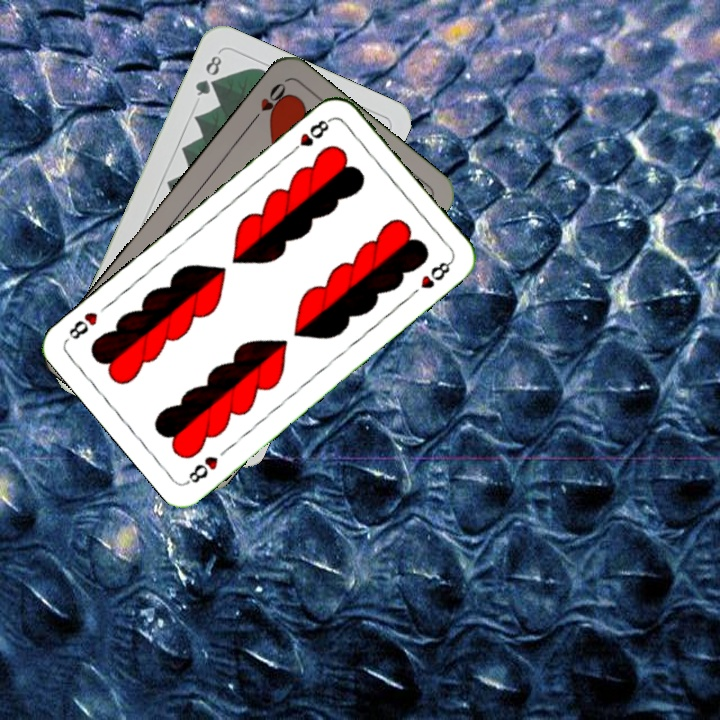G8: (191, 51, 225, 99)
H8: (285, 114, 334, 158), (182, 452, 221, 487)
HO: (246, 78, 291, 127)
